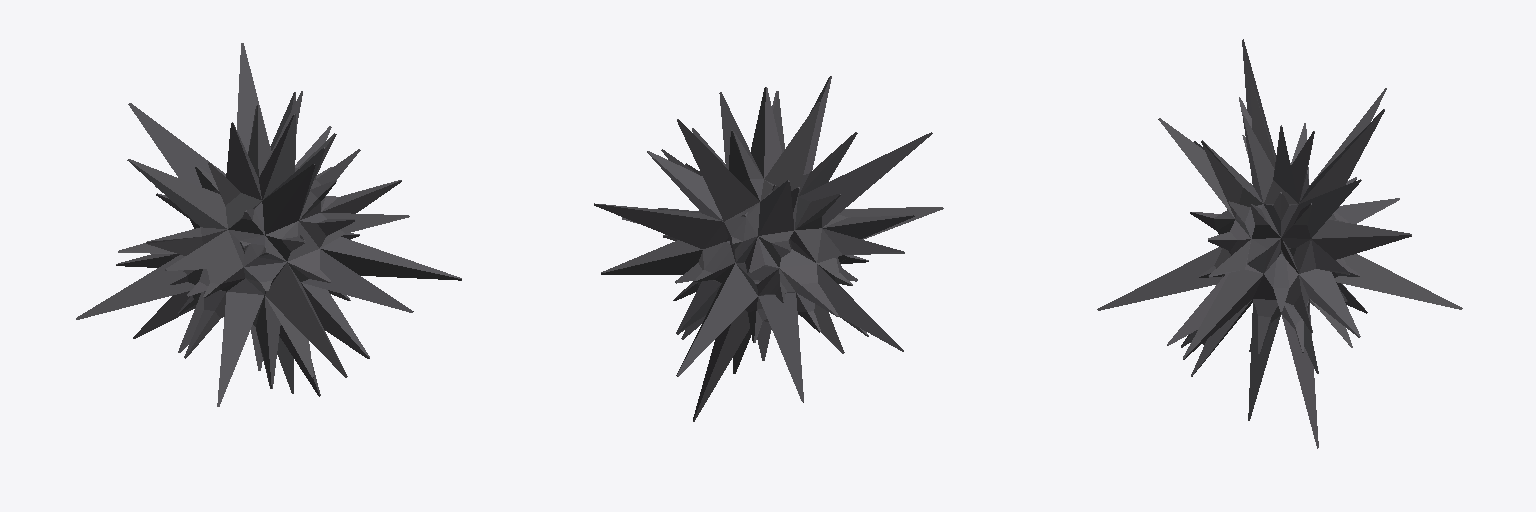
Rendered from Star2.obj.
The picture shows the model from 3 angles: view 1: azimuth 30°, elevation 25°; view 2: azimuth 150°, elevation 25°; view 3: azimuth 270°, elevation 25°; orthographic projection.
Visible parts, largest first — view 1: Invertedspike1; view 2: Invertedspike1; view 3: Invertedspike1.
Boxes of the visible parts, x1=… form: Invertedspike1: x1=76, y1=43, x2=461, y2=406; Invertedspike1: x1=594, y1=76, x2=943, y2=421; Invertedspike1: x1=1097, y1=39, x2=1462, y2=448.
Bounding box in the file's own units: 9.87 × 9.87 × 9.87.